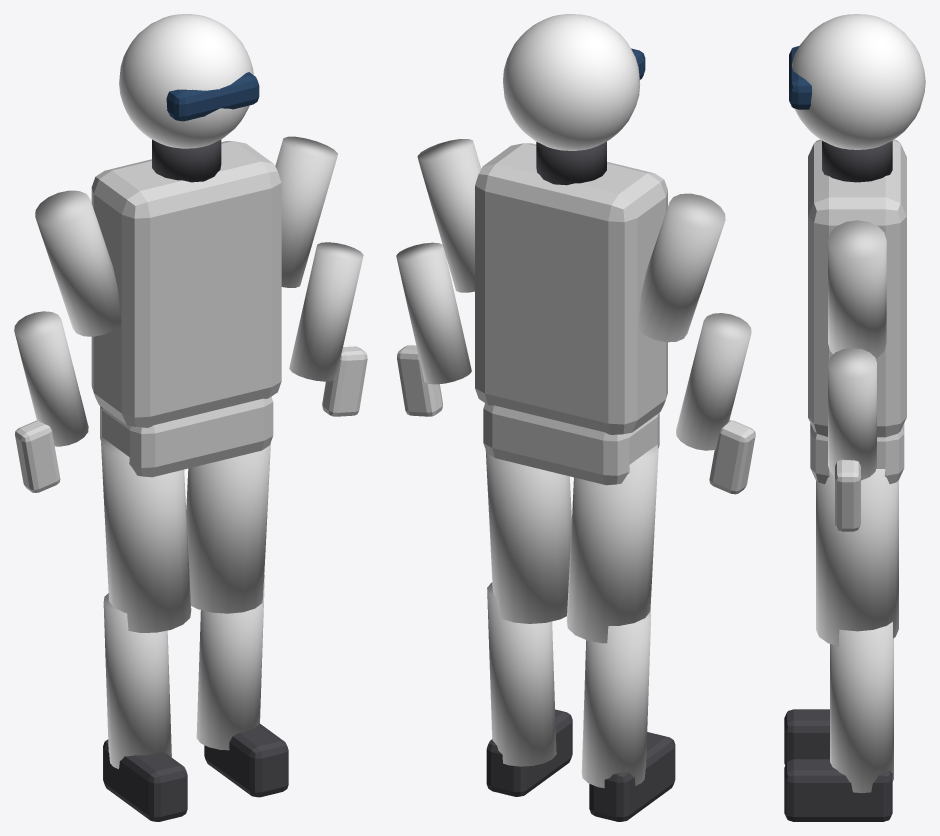
File: driver_standing.glb
3 views of the same model, side by side, from view 1: azimuth 30°, elevation 25°; view 2: azimuth 150°, elevation 25°; view 3: azimuth 270°, elevation 25° (orthographic).
Visible parts, largest first — view 1: Torso, Thigh_L, DriverHelmet, Thigh_R, Shin_L, Pelvis, Shin_R, UpperArm_L, ForeArm_R, ForeArm_L, UpperArm_R, Boot_L (+5 smaller); view 2: Torso, DriverHelmet, Thigh_L, Thigh_R, Shin_L, Shin_R, Pelvis, UpperArm_L, ForeArm_R, ForeArm_L, UpperArm_R, Boot_L (+4 smaller); view 3: Torso, DriverHelmet, Thigh_R, Shin_R, UpperArm_R, ForeArm_R, Boot_R, Neck, Boot_L, Pelvis, Glove_R, DriverVisor.
Boxes of the visible parts, bbox=[...] form: Torso: bbox=[91, 141, 281, 427]; Thigh_L: bbox=[101, 437, 191, 632]; DriverHelmet: bbox=[119, 14, 253, 148]; Thigh_R: bbox=[186, 443, 270, 613]; Shin_L: bbox=[103, 593, 171, 769]; Pelvis: bbox=[100, 396, 273, 477]; Shin_R: bbox=[196, 574, 264, 750]; UpperArm_L: bbox=[35, 190, 121, 336]; ForeArm_R: bbox=[289, 242, 363, 381]; ForeArm_L: bbox=[14, 311, 88, 446]; UpperArm_R: bbox=[275, 136, 337, 287]; Boot_L: bbox=[103, 739, 187, 821]; Torso: bbox=[475, 143, 667, 434]; DriverHelmet: bbox=[503, 14, 640, 150]; Thigh_L: bbox=[566, 444, 658, 643]; Thigh_R: bbox=[485, 450, 571, 623]; Shin_L: bbox=[581, 611, 651, 788]; Shin_R: bbox=[487, 582, 556, 766]; Pelvis: bbox=[483, 403, 659, 485]; UpperArm_L: bbox=[638, 193, 725, 342]; ForeArm_R: bbox=[396, 242, 471, 384]; ForeArm_L: bbox=[676, 313, 751, 450]; UpperArm_R: bbox=[417, 139, 481, 292]; Boot_L: bbox=[589, 732, 675, 821]; Torso: bbox=[808, 139, 906, 437]; DriverHelmet: bbox=[791, 14, 925, 149]; Thigh_R: bbox=[816, 469, 898, 646]; Shin_R: bbox=[830, 622, 893, 793]; UpperArm_R: bbox=[828, 220, 886, 358]; ForeArm_R: bbox=[828, 348, 876, 480]; Boot_R: bbox=[784, 759, 892, 821]; Neck: bbox=[822, 140, 892, 182]; Boot_L: bbox=[784, 709, 829, 765]; Pelvis: bbox=[810, 423, 904, 484]; Glove_R: bbox=[835, 459, 860, 531]; DriverVisor: bbox=[789, 46, 811, 109].
Bounding box in the file's own units: 0.8547 × 1.8 × 0.3.
